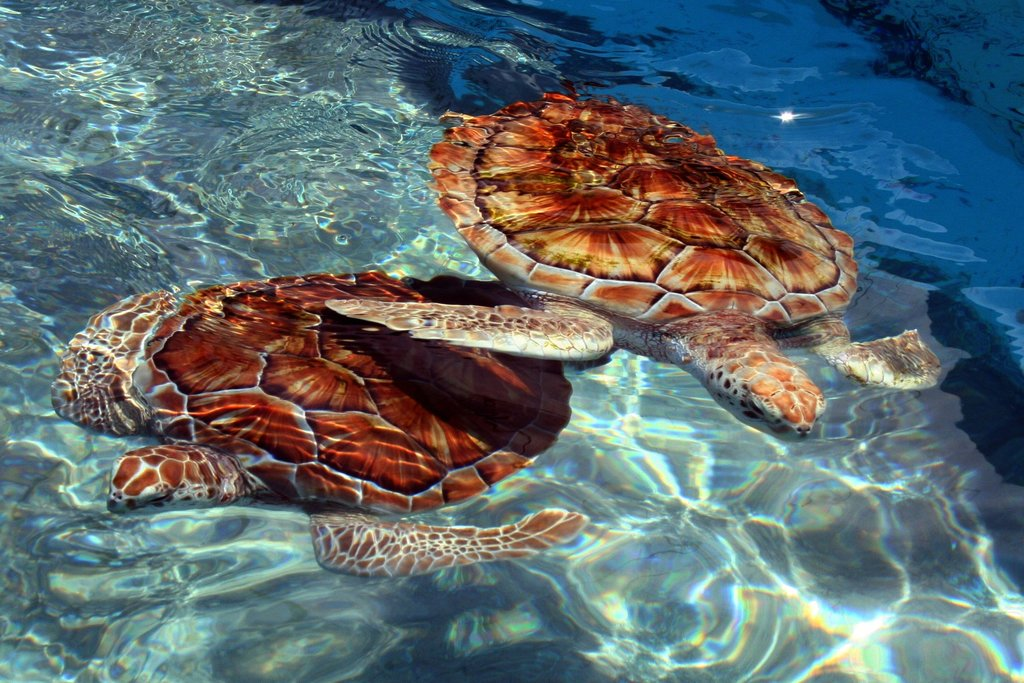Sea turtles: (324, 91, 941, 442), (51, 269, 619, 579)
